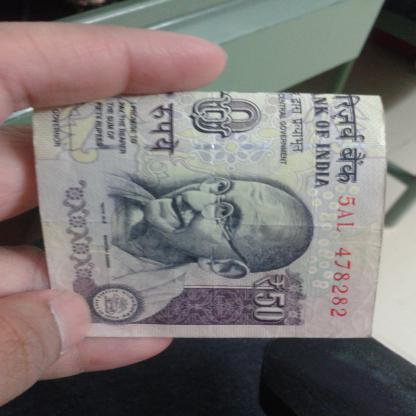Old50Front: (33, 92, 390, 339)
